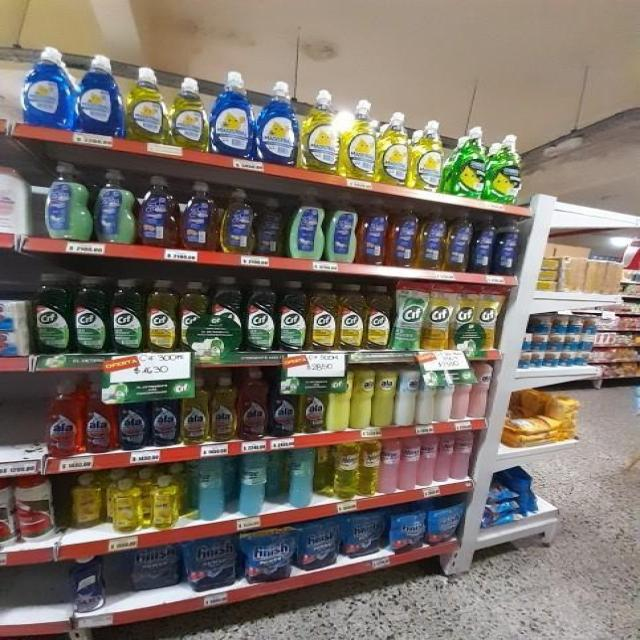ala_conc_amarillo: (181, 375, 209, 445), (298, 369, 326, 434), (211, 374, 237, 442)
ala_conc_azul: (118, 379, 148, 451), (150, 376, 180, 447), (270, 369, 296, 437)
ala_conc_rojo: (43, 380, 83, 458), (84, 380, 116, 453), (238, 368, 268, 440)
ala_crem_amarillo: (326, 368, 351, 431), (374, 365, 396, 427), (352, 365, 373, 429), (0, 0, 28, 47)
ala_crem_blanco: (397, 365, 418, 426), (419, 366, 437, 425)
ala_crem_rosado: (472, 361, 493, 419)
cif_conc_bot_amarilla: (146, 279, 178, 353), (179, 281, 208, 352), (310, 281, 338, 352), (338, 283, 364, 351), (366, 285, 392, 350)
cif_conc_botella_verde: (34, 272, 71, 355), (73, 275, 109, 355), (110, 278, 144, 354), (210, 276, 243, 353), (245, 278, 276, 353), (278, 279, 308, 352)
cif_conc_sachet_amarillo: (426, 282, 453, 351), (478, 285, 503, 350), (453, 284, 477, 351)
cif_conc_sachet_verde: (394, 280, 424, 351)
heroe: (237, 452, 268, 516), (334, 442, 358, 499), (360, 441, 380, 495), (381, 439, 399, 493)
magistral_con_amarillo: (300, 88, 340, 172), (126, 66, 168, 144), (170, 76, 209, 149), (342, 98, 376, 180), (378, 111, 410, 186), (410, 119, 443, 191)
magistral_con_azul: (21, 47, 74, 129), (76, 54, 123, 136), (211, 70, 254, 158), (257, 79, 298, 165)
zorro: (288, 191, 324, 260)
